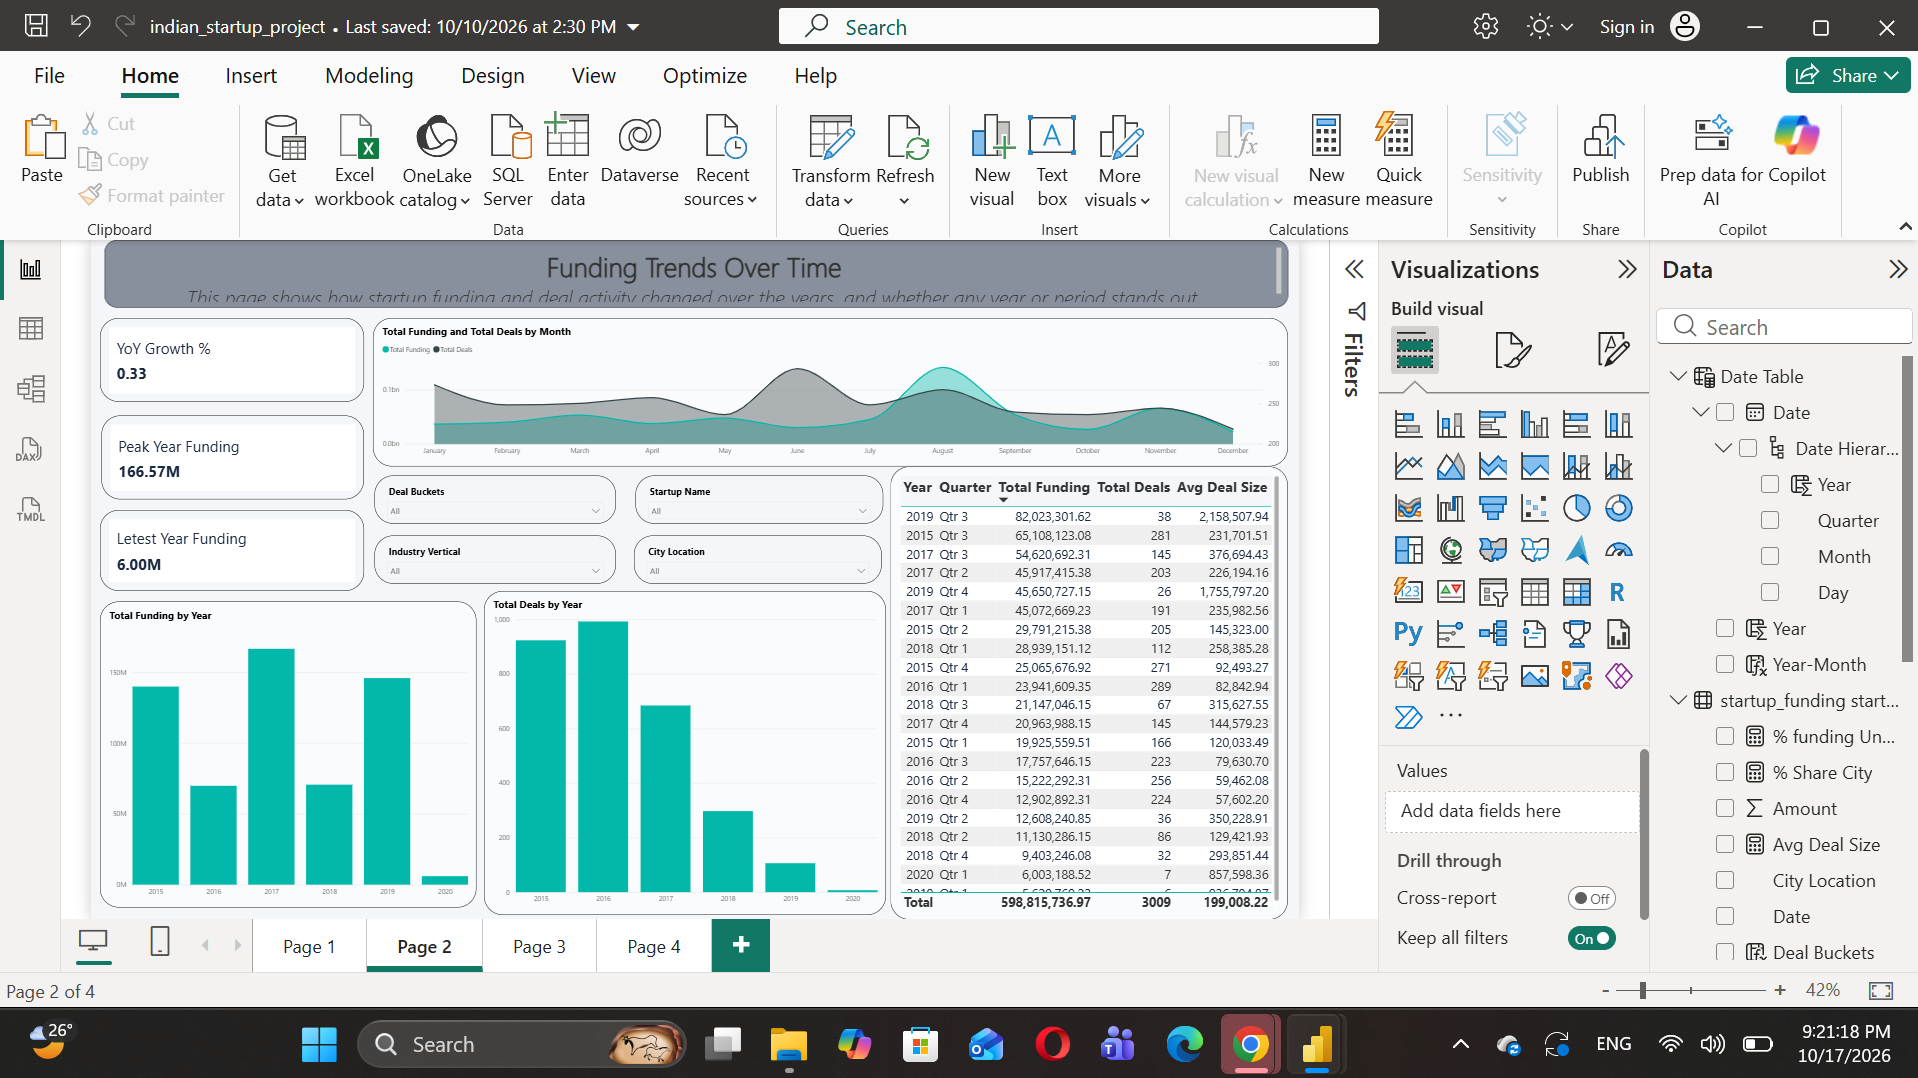

This screenshot's page, from the dashboard's own definition file:
{"tool":"powerbi","page":{"name":"Page 2","canvas":[1920,1080],"ordinal":1},"visuals":[{"type":"columnChart","fields":{"Category":["Date Table.Date.Variation.Date Hierarchy.Year"],"Y":["startup_funding startup_funding.Total Funding"]},"box":[14.3,575,598.9,486.7],"z":0},{"type":"tableEx","fields":{"Values":["Date Table.Date.Variation.Date Hierarchy.Year","Date Table.Date.Variation.Date Hierarchy.Quarter","startup_funding startup_funding.Total Funding","startup_funding startup_funding.Total Deals","startup_funding startup_funding.Avg Deal Size"]},"box":[1271.7,360.3,632.3,720.5],"z":1000},{"type":"textbox","box":[21.5,0,1882.5,107.4],"z":1001},{"type":"cardVisual","fields":{"Data":["startup_funding startup_funding.YoY Growth %"]},"box":[14.3,124.1,419.9,133.6],"z":1002},{"type":"cardVisual","fields":{"Data":["startup_funding startup_funding.Peak Year Funding"]},"box":[16.7,279.2,417.5,133.6],"z":1003},{"type":"cardVisual","fields":{"Data":["startup_funding startup_funding.Letest Year Funding"]},"box":[14.3,429.5,419.9,128.8],"z":1004},{"type":"columnChart","fields":{"Category":["Date Table.Date.Variation.Date Hierarchy.Year"],"Y":["startup_funding startup_funding.Total Deals"]},"box":[625.1,558.3,639.4,515.4],"z":1005},{"type":"slicer","fields":{"Values":["startup_funding startup_funding.Deal Buckets"]},"box":[450.9,374.6,384.1,76.3],"z":1006},{"type":"slicer","fields":{"Values":["startup_funding startup_funding.Startup Name"]},"box":[866.1,374.6,393.7,76.3],"z":1007},{"type":"slicer","fields":{"Values":["startup_funding startup_funding.Industry Vertical"]},"box":[450.9,470,384.1,76.3],"z":1008},{"type":"slicer","fields":{"Values":["startup_funding startup_funding.City  Location"]},"box":[863.7,470,393.7,76.3],"z":1009},{"type":"areaChart","fields":{"Y":["startup_funding startup_funding.Total Funding"],"Y2":["startup_funding startup_funding.Total Deals"],"Category":["Date Table.Date.Variation.Date Hierarchy.Month"]},"box":[448.6,124.1,1455.4,236.2],"z":1010}]}

Visuals, with their boxes on the page's 1920x1080 design canvas (x1, y1, x2, y2). These are canvas units, not pixel positions in the 1918x1078 screenshot, which may show the page scaled, cropped or inside an application window:
columnChart - Date Table.Date.Variation.Date Hierarchy.Year x startup_funding startup_funding.Total Funding: 14:575:613:1062
tableEx - Date Table.Date.Variation.Date Hierarchy.Year x Date Table.Date.Variation.Date Hierarchy.Quarter: 1272:360:1904:1081
textbox: 22:0:1904:107
cardVisual - startup_funding startup_funding.YoY Growth %: 14:124:434:258
cardVisual - startup_funding startup_funding.Peak Year Funding: 17:279:434:413
cardVisual - startup_funding startup_funding.Letest Year Funding: 14:430:434:558
columnChart - Date Table.Date.Variation.Date Hierarchy.Year x startup_funding startup_funding.Total Deals: 625:558:1264:1074
slicer - startup_funding startup_funding.Deal Buckets: 451:375:835:451
slicer - startup_funding startup_funding.Startup Name: 866:375:1260:451
slicer - startup_funding startup_funding.Industry Vertical: 451:470:835:546
slicer - startup_funding startup_funding.City  Location: 864:470:1257:546
areaChart - startup_funding startup_funding.Total Funding x startup_funding startup_funding.Total Deals: 449:124:1904:360
